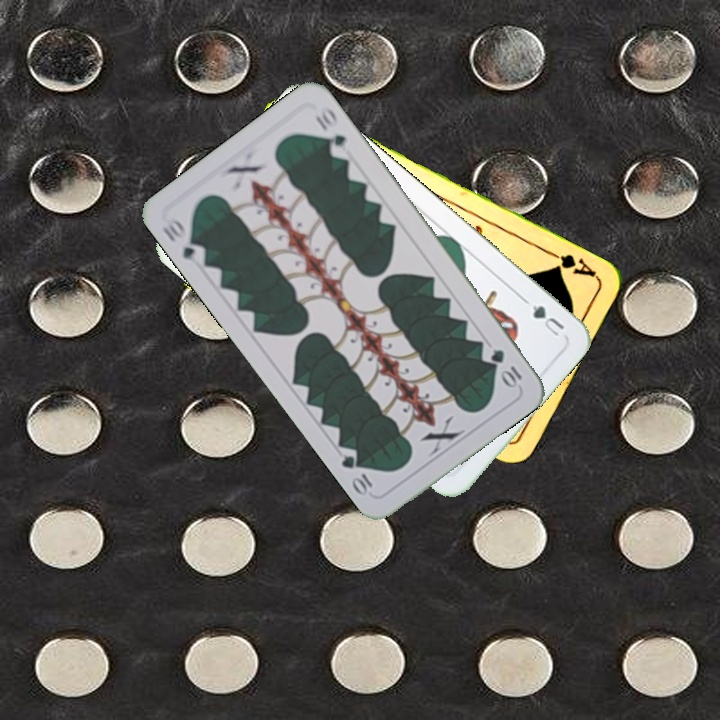G10: (158, 212, 209, 264), (486, 345, 525, 391)
GA: (544, 246, 599, 280)
GU: (519, 295, 567, 339)
